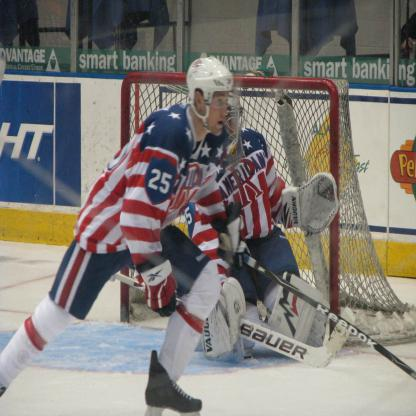Helmet: (183, 54, 236, 136)
